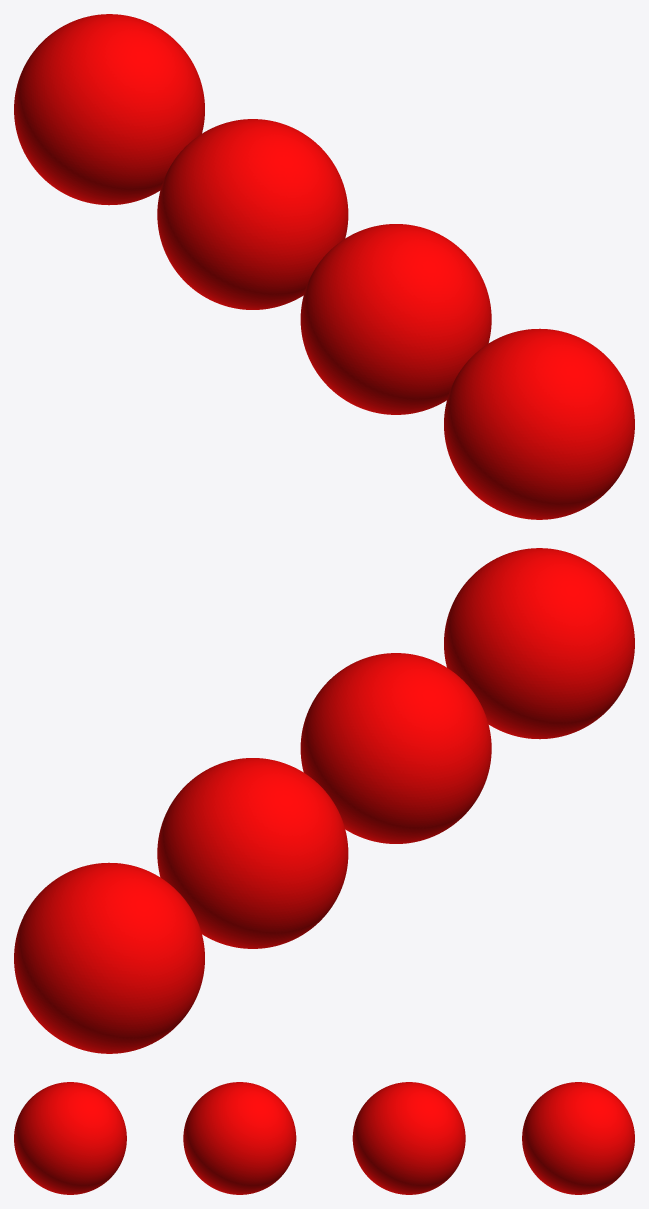
The model's file is pbr test.glb.
The picture shows the model from 3 angles, top to bottom: view 1: azimuth 30°, elevation 25°; view 2: azimuth 150°, elevation 25°; view 3: azimuth 270°, elevation 25°; orthographic projection. The views are drawn at different scales.
Parts seen in each view (by area): view 1: Icosphere, Icosphere.001, Icosphere.002, Icosphere.003; view 2: Icosphere.003, Icosphere.002, Icosphere.001, Icosphere; view 3: Icosphere.001, Icosphere.002, Icosphere, Icosphere.003.
Part boxes in pixels (left/top/right/bottom): Icosphere: left=444, top=328, right=634, bottom=519; Icosphere.001: left=300, top=224, right=491, bottom=414; Icosphere.002: left=157, top=119, right=348, bottom=309; Icosphere.003: left=14, top=14, right=204, bottom=205; Icosphere.003: left=14, top=862, right=204, bottom=1053; Icosphere.002: left=157, top=758, right=348, bottom=948; Icosphere.001: left=300, top=653, right=491, bottom=843; Icosphere: left=444, top=548, right=634, bottom=739; Icosphere.001: left=183, top=1082, right=296, bottom=1194; Icosphere.002: left=352, top=1082, right=465, bottom=1194; Icosphere: left=14, top=1082, right=126, bottom=1194; Icosphere.003: left=522, top=1082, right=634, bottom=1194.
Bounding box in the file's own units: 2 × 2 × 11.
4 materials, 4 textured.
